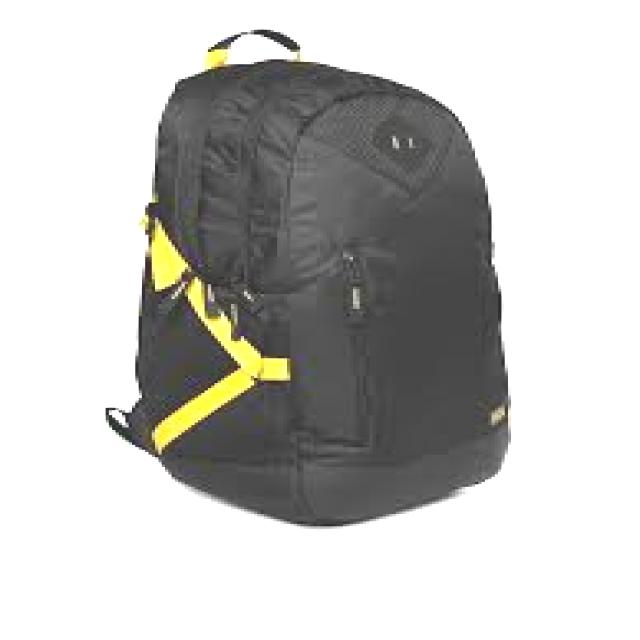backpack: (104, 29, 513, 528)
